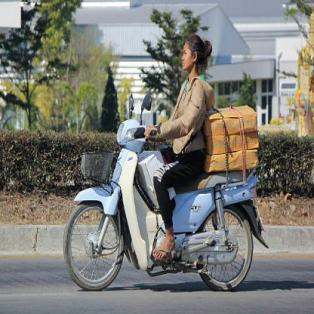Motocicleta: (57, 101, 265, 293)
